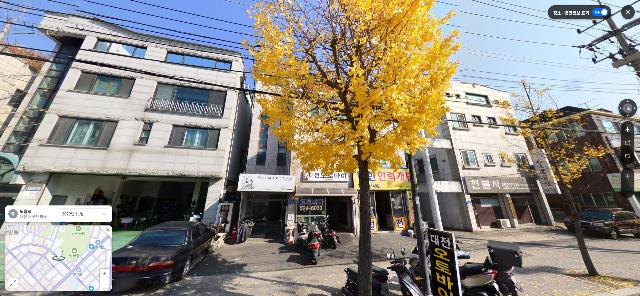ginkgo: (240, 0, 464, 296), (495, 79, 612, 276)
